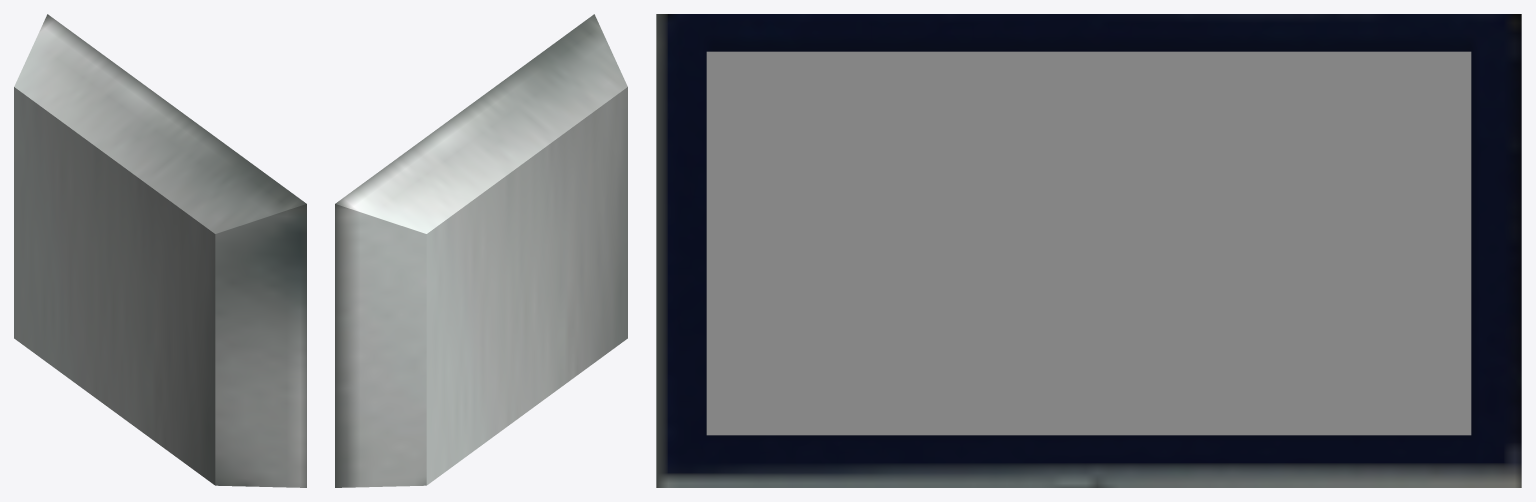
Rendered from SM_SYD_TV01.fbx.
3 views of the same model, side by side, from view 1: azimuth 30°, elevation 25°; view 2: azimuth 150°, elevation 25°; view 3: azimuth 270°, elevation 25° (orthographic). The views are drawn at different scales.
Parts seen in each view (by area): view 1: SM_SYD_TV01; view 2: SM_SYD_TV01; view 3: SM_SYD_TV01.
Part boxes in pixels (<box>): SM_SYD_TV01: <box>14,14,306,487</box>; SM_SYD_TV01: <box>335,14,627,487</box>; SM_SYD_TV01: <box>656,14,1521,487</box>.
Size of the model in its own units: 17.94 by 79.04 by 129.
